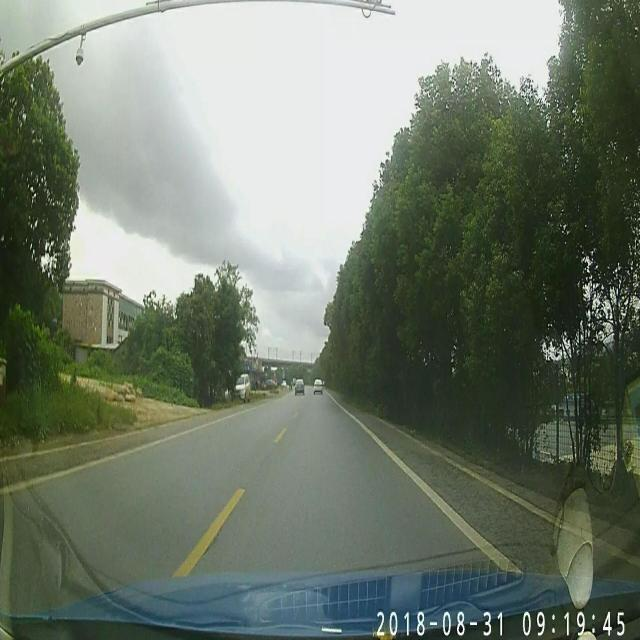car: (233, 375, 250, 398), (295, 377, 305, 394), (314, 379, 322, 396)
